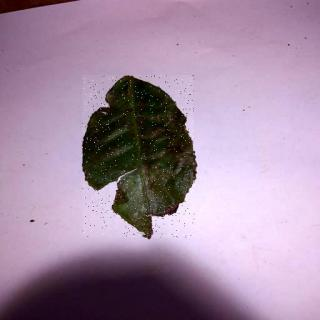Bird Eye Spot: (84, 76, 196, 238)
